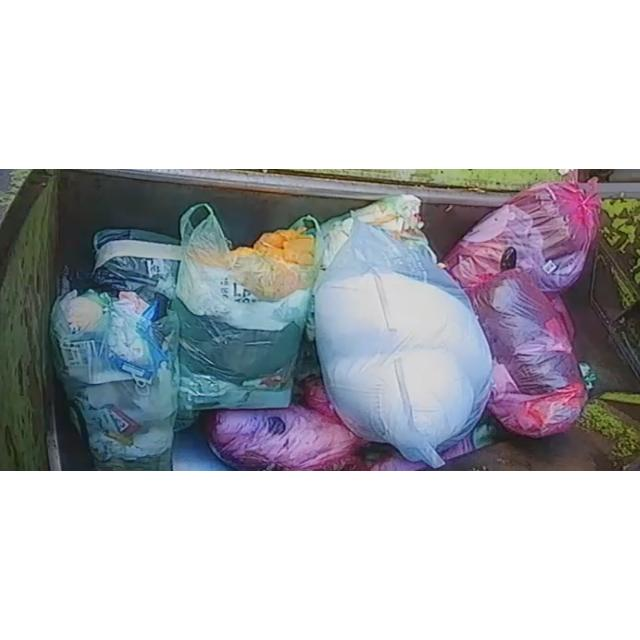general_trashbag: (172, 204, 321, 428), (50, 290, 179, 470), (92, 229, 180, 302)
other_trashbag: (315, 196, 492, 469), (468, 268, 588, 439), (444, 182, 601, 293), (206, 405, 365, 472)
